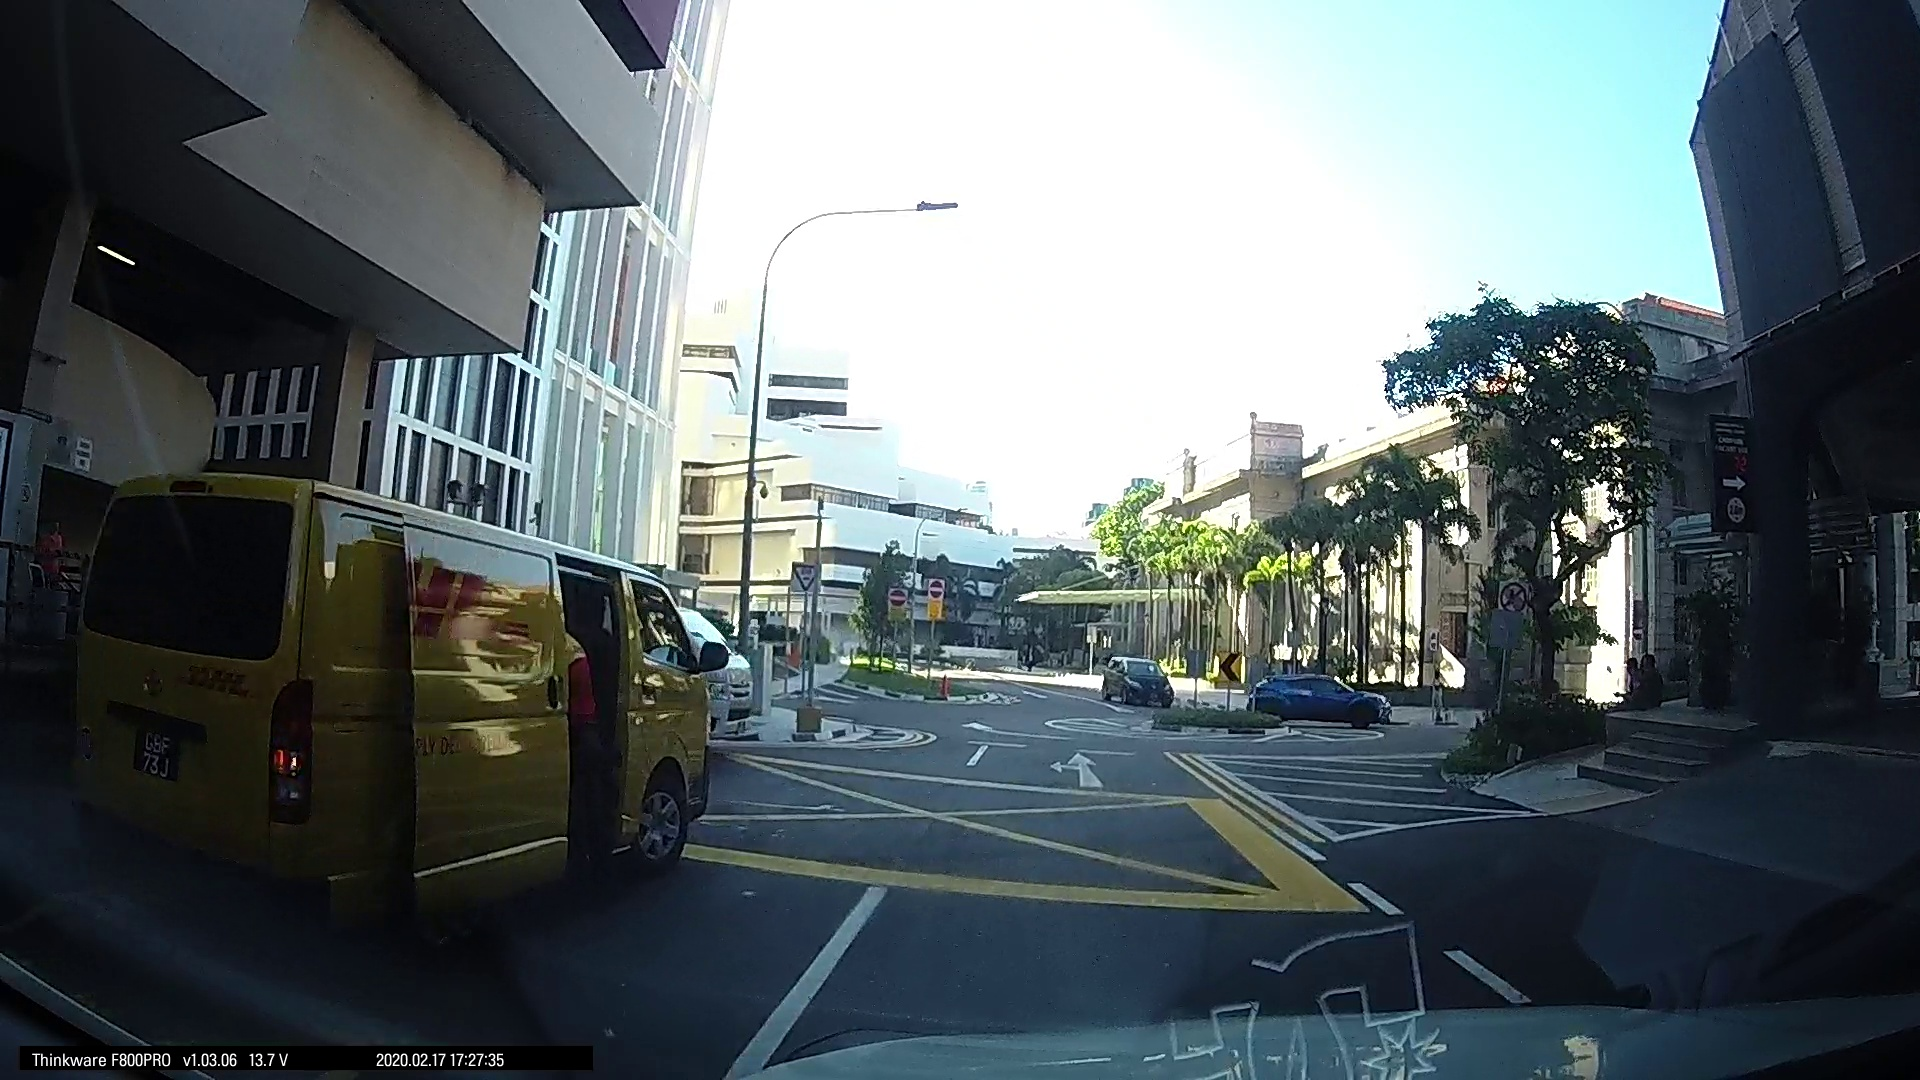Light Vehicle: (50, 469, 728, 919), (1246, 666, 1383, 728), (1095, 647, 1174, 707)
